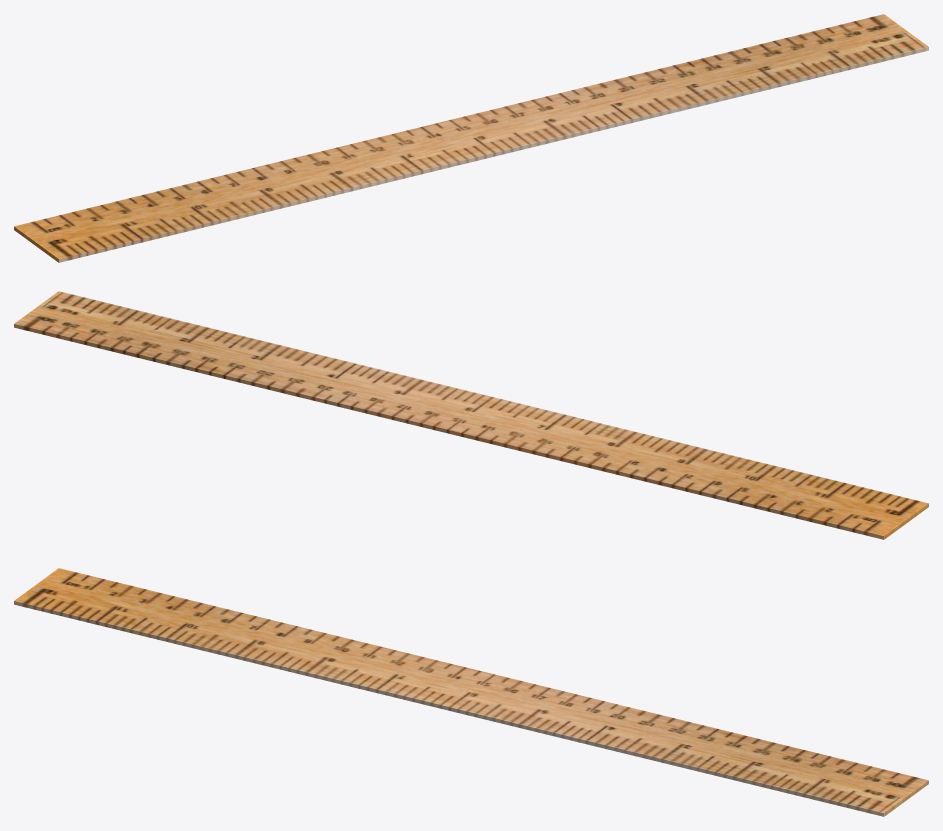
File: 27a40e42-99fe-4fcf-ba5e-1bb45335a7c4.glb
The picture shows the model from 3 angles, top to bottom: view 1: azimuth 30°, elevation 25°; view 2: azimuth 150°, elevation 25°; view 3: azimuth 330°, elevation 25°; orthographic projection.
Parts seen in each view (by area): view 1: Node; view 2: Node; view 3: Node.
Boxes of the visible parts, x1=… form: Node: x1=14, y1=14, x2=928, y2=262; Node: x1=14, y1=291, x2=928, y2=539; Node: x1=14, y1=568, x2=928, y2=816.
Size of the model in its own units: 17.65 by 0.0716 by 1.58.
1 material, 1 textured.
